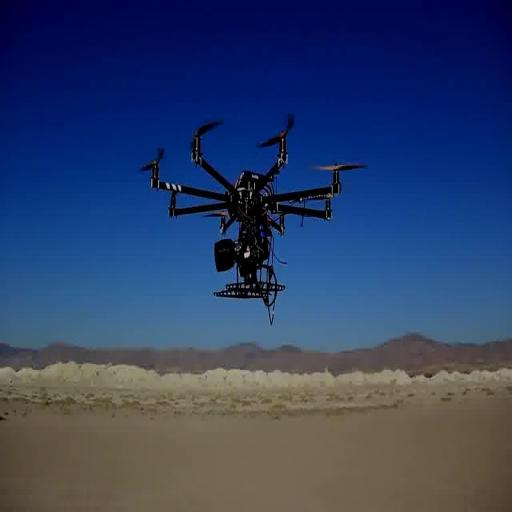drone: (144, 112, 350, 308)
